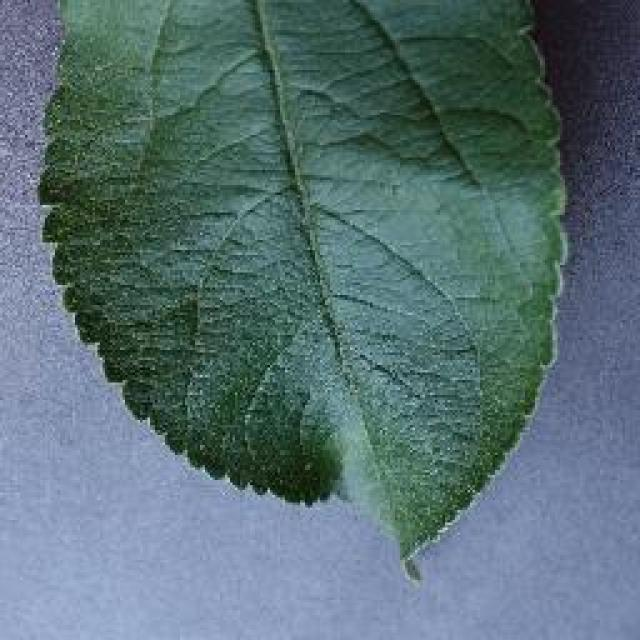apple healthy: (35, 0, 570, 580)
